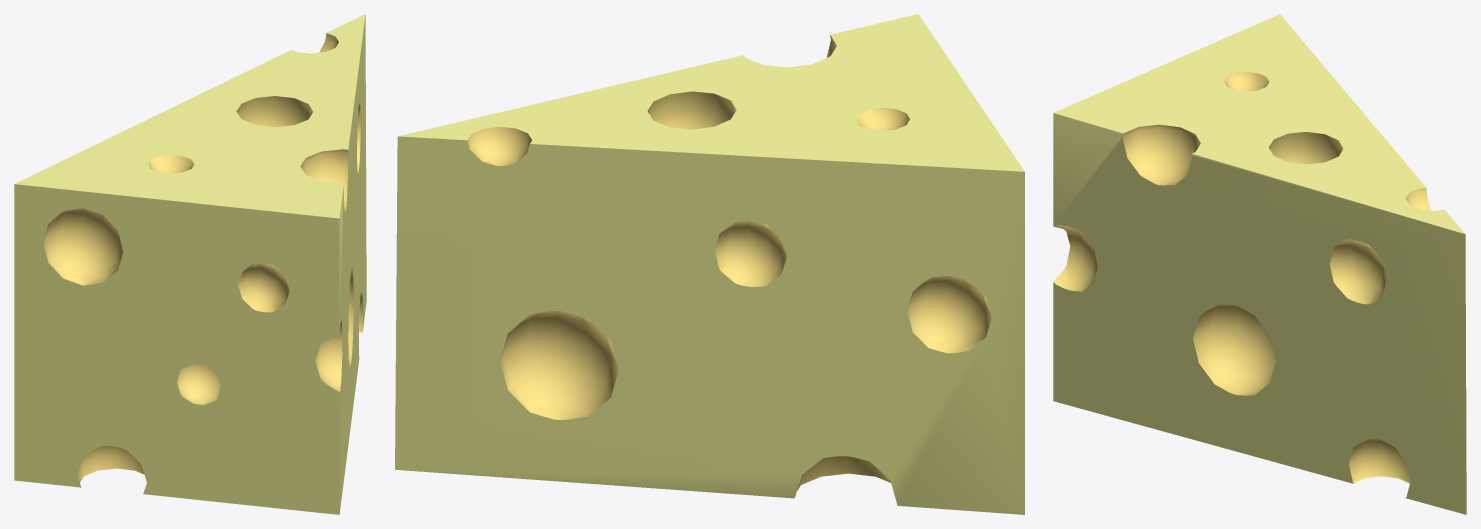
File: Cheese.fbx
3 views of the same model, side by side, from view 1: azimuth 30°, elevation 25°; view 2: azimuth 150°, elevation 25°; view 3: azimuth 270°, elevation 25° (orthographic). The views are drawn at different scales.
Parts seen in each view (by area): view 1: node_id4 (×2); view 2: node_id4 (×2); view 3: node_id4 (×2).
Part boxes in pixels (x1,y1,x2,y2): node_id4 (×2): (14,14,366,514); node_id4 (×2): (395,14,1024,514); node_id4 (×2): (1053,14,1466,514).
Bounding box in the file's own units: 0.308 × 0.1947 × 0.253.
